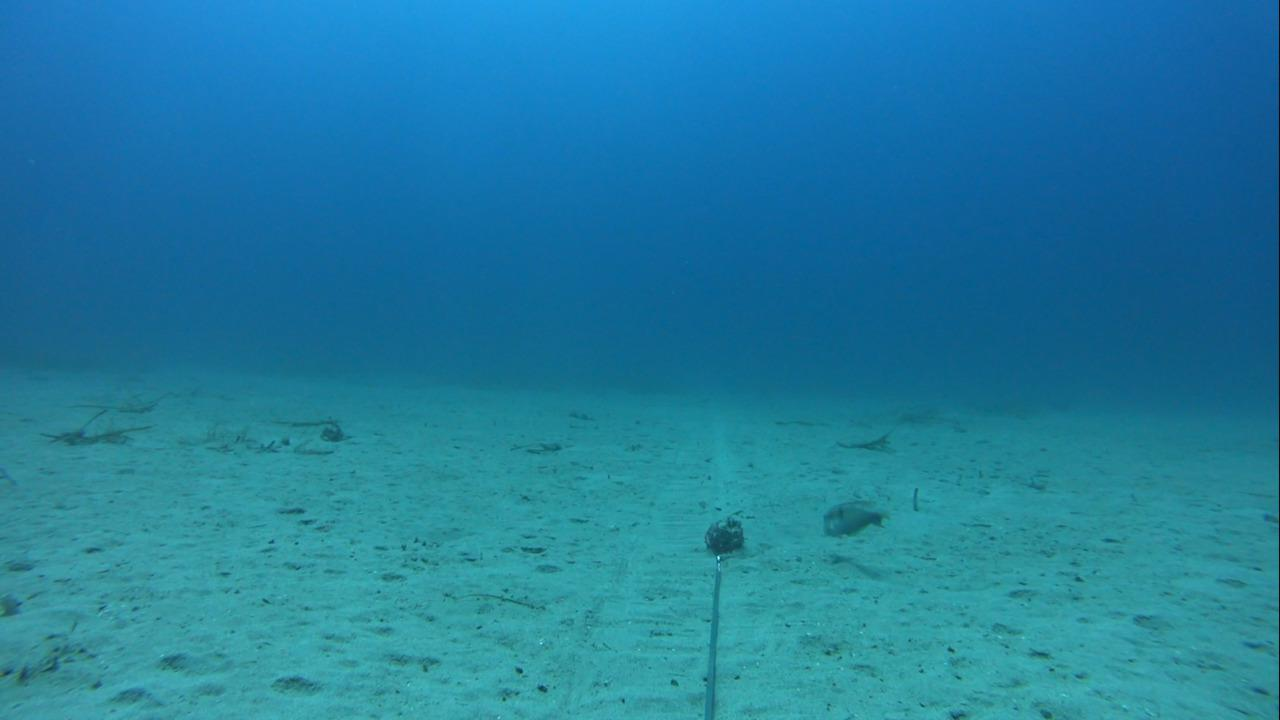raor: (815, 498, 889, 541)
